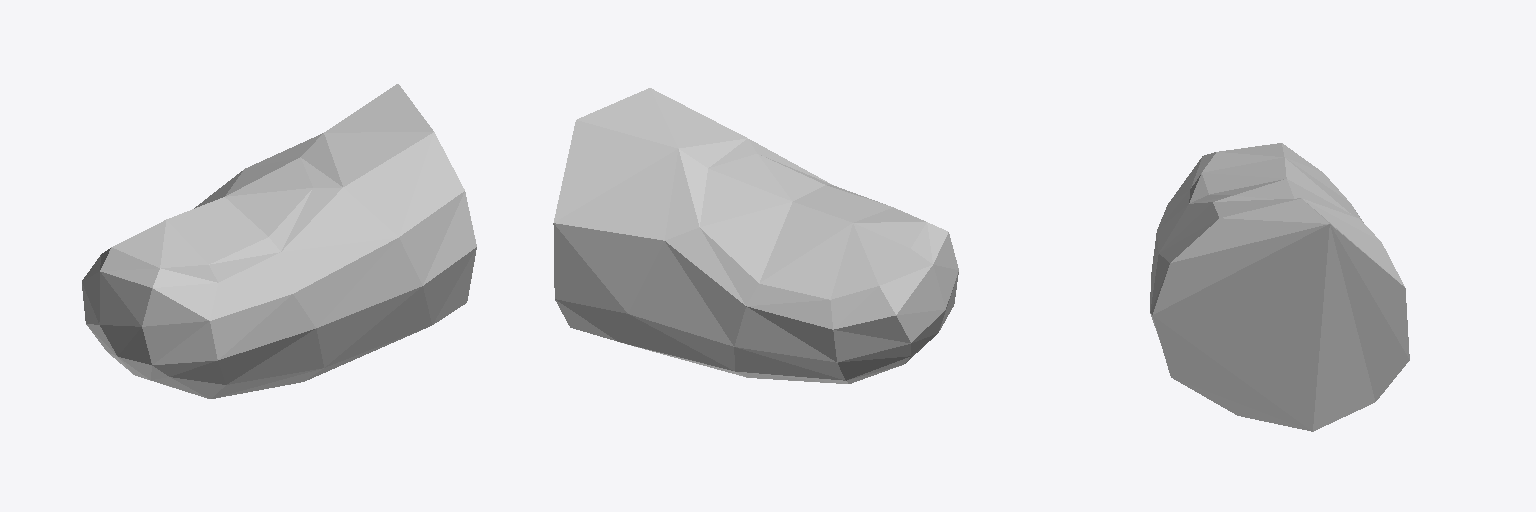
The model's file is pinky3.obj.
3 views of the same model, side by side, from view 1: azimuth 30°, elevation 25°; view 2: azimuth 150°, elevation 25°; view 3: azimuth 270°, elevation 25° (orthographic).
Size of the model in its own units: 21.17 by 13.75 by 14.24.